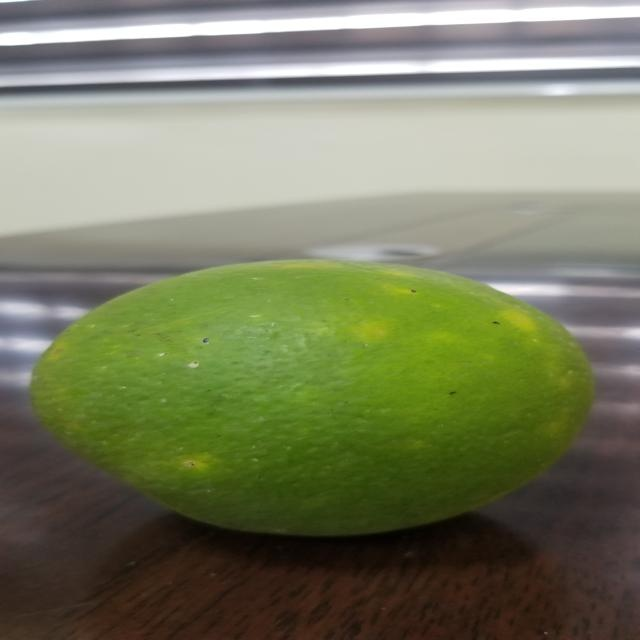agrume: (33, 235, 614, 548)
